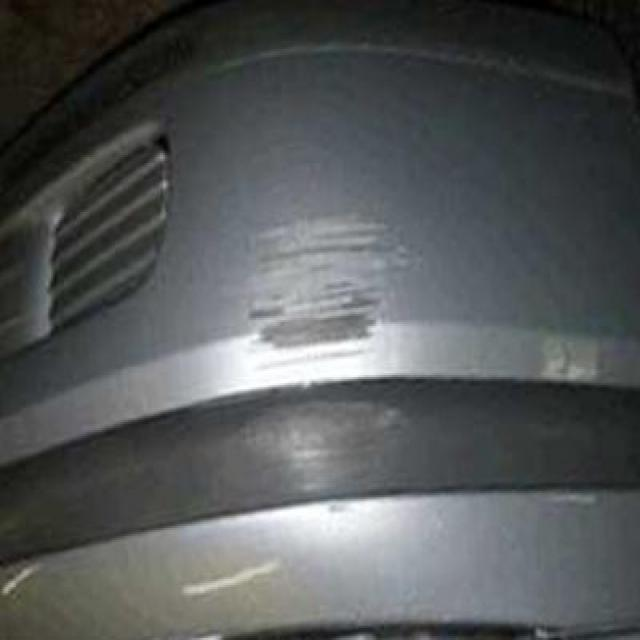scratch: (230, 206, 420, 357), (234, 383, 409, 504)
